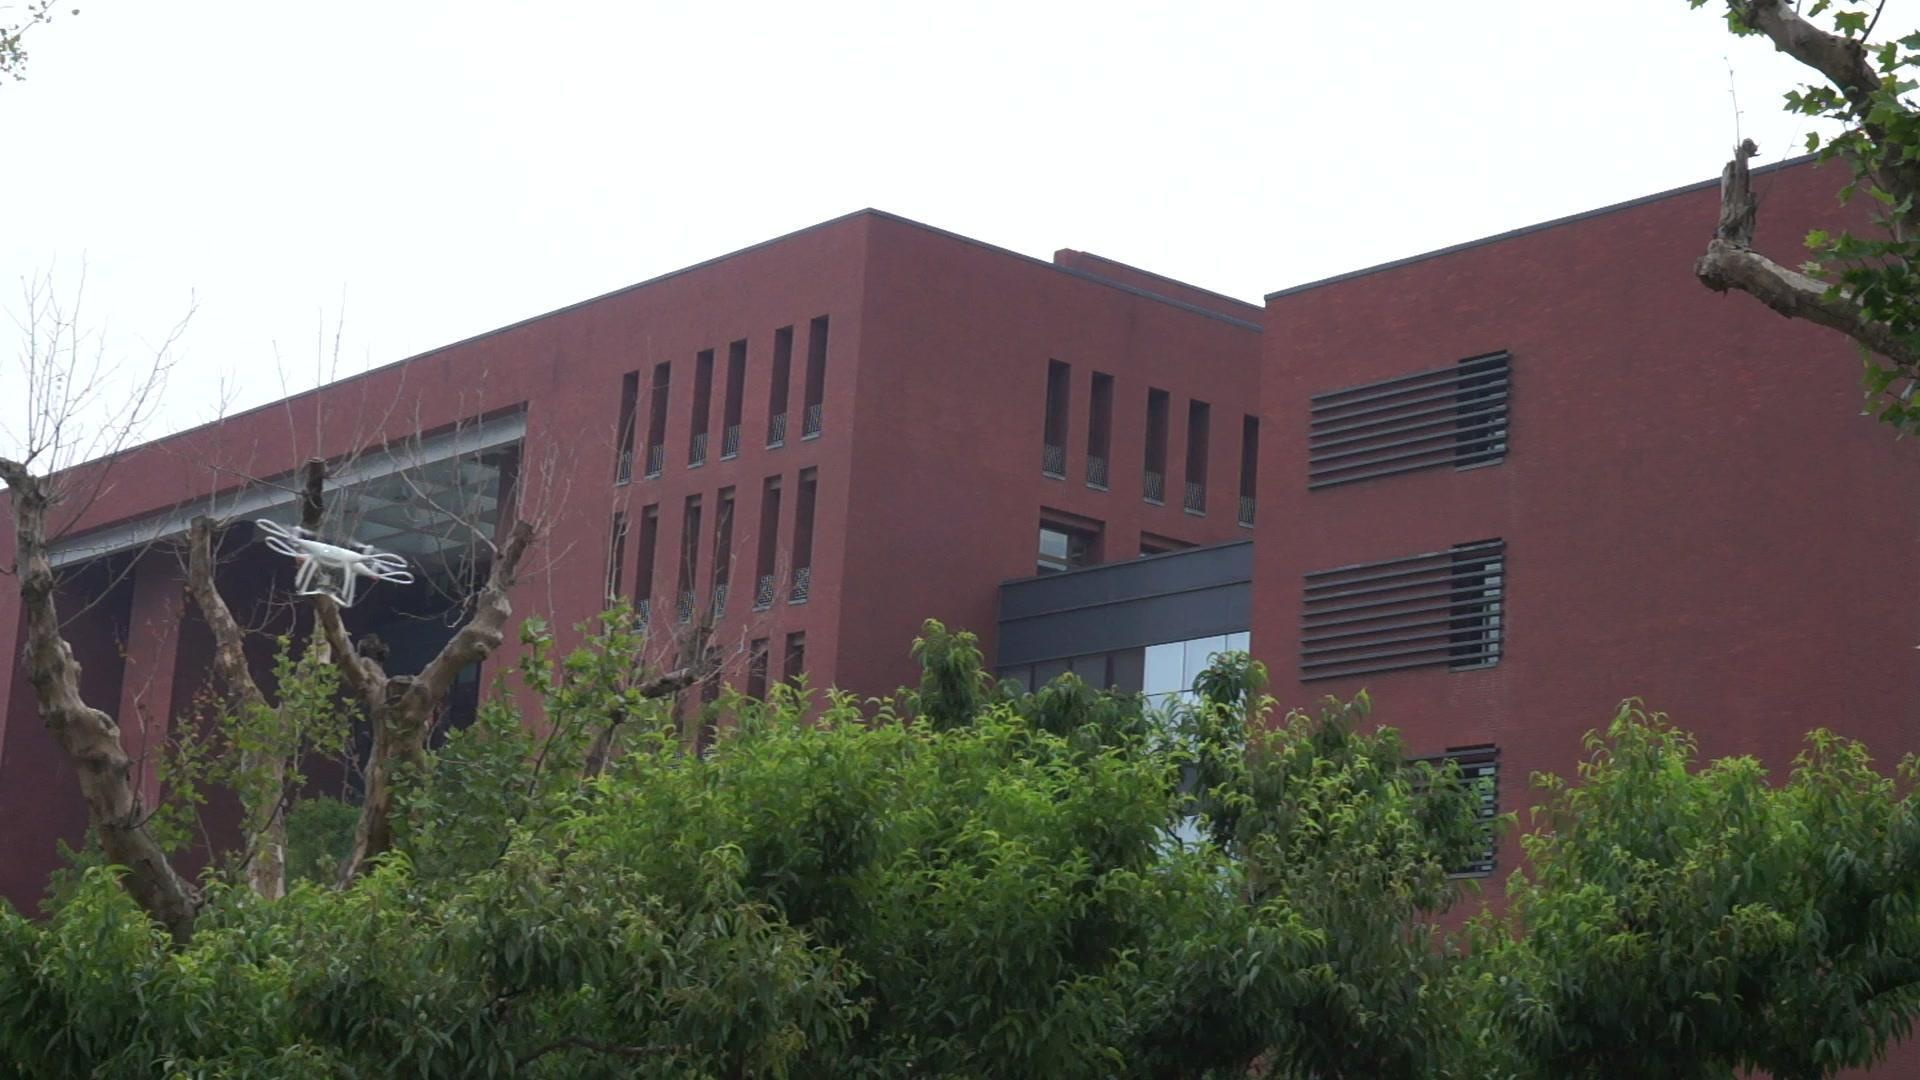UAV: (255, 520, 415, 609)
